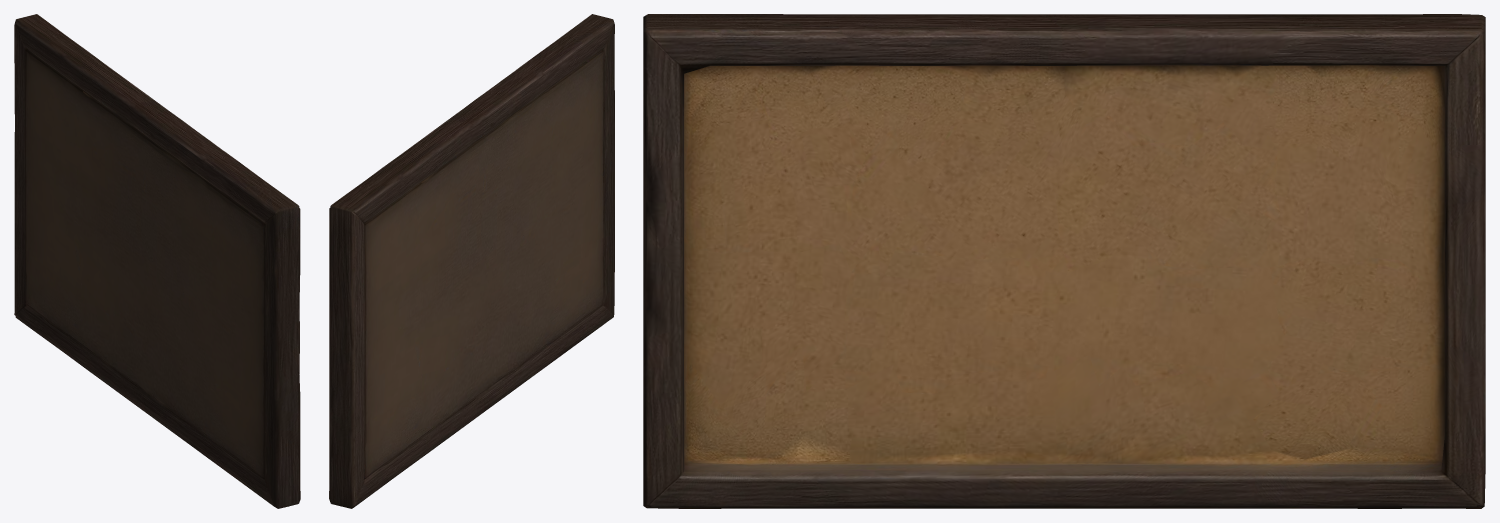
Rendered from post_office_corkboard.glb.
3 views of the same model, side by side, from view 1: azimuth 30°, elevation 25°; view 2: azimuth 150°, elevation 25°; view 3: azimuth 270°, elevation 25° (orthographic). The views are drawn at different scales.
Parts seen in each view (by area): view 1: tripo_node_e4b9ba3e-9c58-498d-a6db-28009c26580e; view 2: tripo_node_e4b9ba3e-9c58-498d-a6db-28009c26580e; view 3: tripo_node_e4b9ba3e-9c58-498d-a6db-28009c26580e.
Boxes of the visible parts, x1,y1,x2,y2 form: tripo_node_e4b9ba3e-9c58-498d-a6db-28009c26580e: (14,14,300,508); tripo_node_e4b9ba3e-9c58-498d-a6db-28009c26580e: (329,14,614,508); tripo_node_e4b9ba3e-9c58-498d-a6db-28009c26580e: (643,14,1485,508).
Bounding box in the file's own units: 0.0567 × 0.6283 × 1.
Materials: 1 (1 with a texture image).
